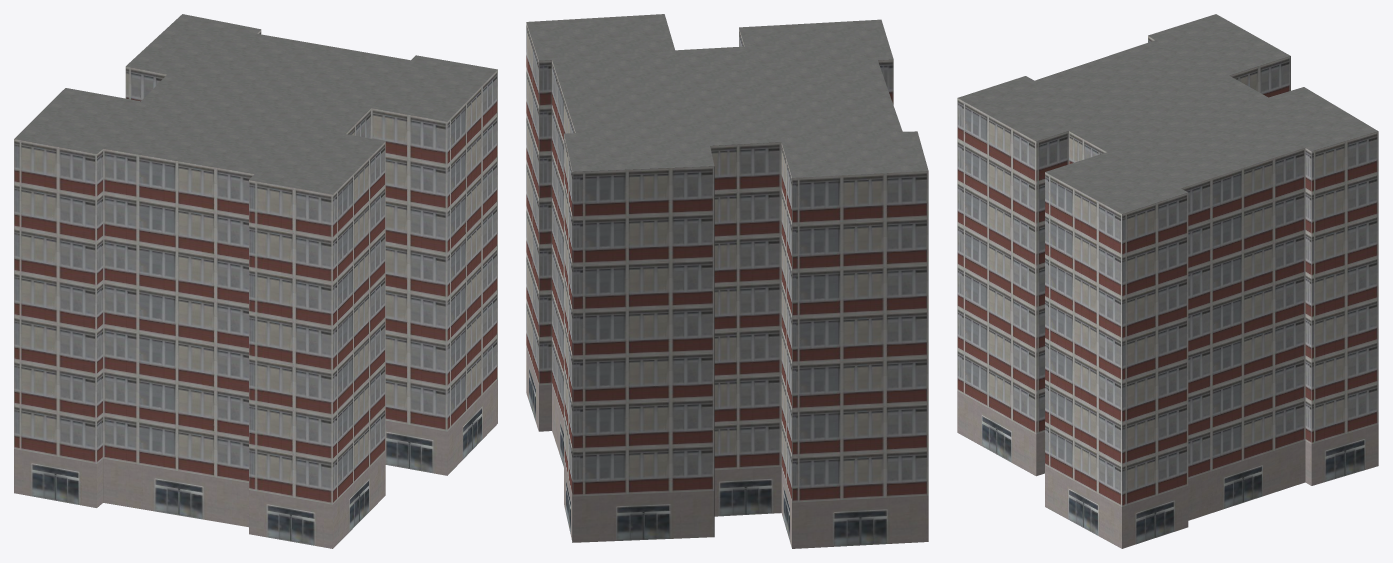
3 views of the same model, side by side, from view 1: azimuth 30°, elevation 25°; view 2: azimuth 150°, elevation 25°; view 3: azimuth 270°, elevation 25° (orthographic). The views are drawn at different scales.
Visible parts, largest first — view 1: BuildingMaster_1979193914604462286200000000_0, BuildingMaster_1979193914604462286200000000_1; view 2: BuildingMaster_1979193914604462286200000000_0, BuildingMaster_1979193914604462286200000000_1; view 3: BuildingMaster_1979193914604462286200000000_0, BuildingMaster_1979193914604462286200000000_1.
Boxes of the visible parts, x1=… form: BuildingMaster_1979193914604462286200000000_0: x1=14, y1=30, x2=497, y2=548; BuildingMaster_1979193914604462286200000000_1: x1=14, y1=14, x2=497, y2=194; BuildingMaster_1979193914604462286200000000_0: x1=526, y1=23, x2=928, y2=548; BuildingMaster_1979193914604462286200000000_1: x1=526, y1=14, x2=928, y2=177; BuildingMaster_1979193914604462286200000000_0: x1=957, y1=36, x2=1378, y2=548; BuildingMaster_1979193914604462286200000000_1: x1=958, y1=14, x2=1377, y2=213.
Size of the model in its own units: 35.9 by 28 by 31.92.
2 materials, 2 textured.
